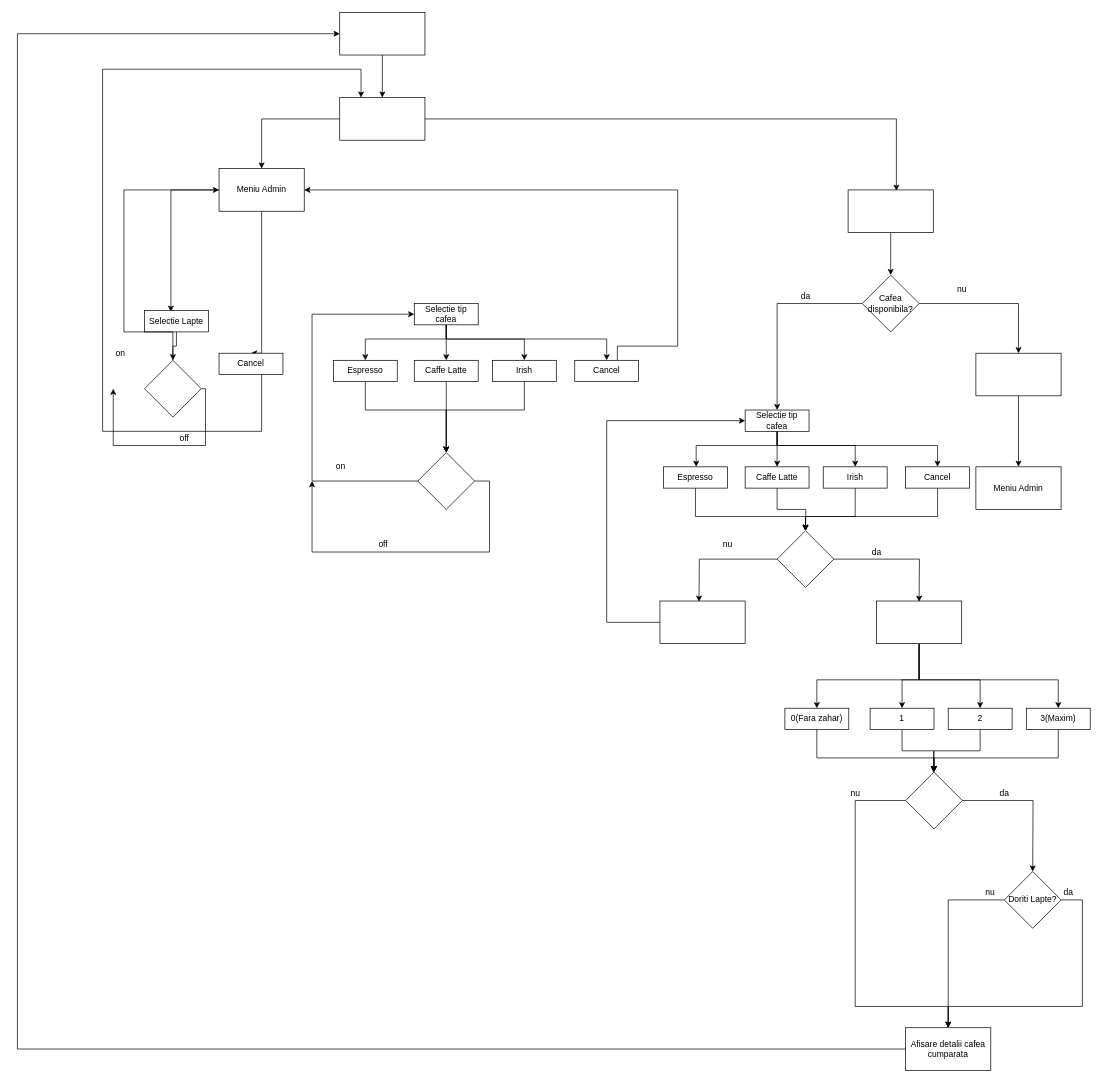
The diagram is 1103 pixels wide and 1083 high, and some of its shapes have lost their labels. Here are the shapes that lost their labels. From the top down, the centre of each, then its label:
point (382, 33): Start(g+3000+F2)
point (382, 118): Selectie Meniu sel_
point (890, 211): Meniu Utilizator
point (172, 388): lapte?
point (1018, 374): "Fara cafea"
point (446, 480): on/off?
point (805, 559): disponibil?
point (702, 622): "Tip cafea indisponibil"
point (919, 622): Selectie nivel zahar
point (933, 800): Lapte on?
